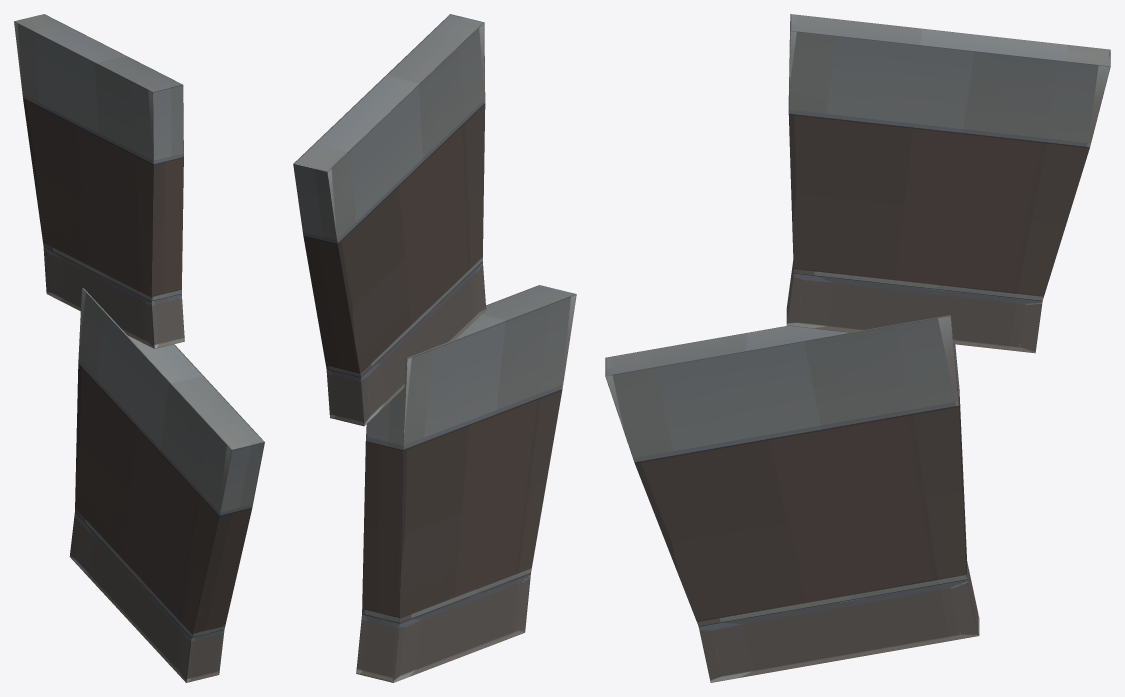
File: Booster 2.fbx
3 renders of one model, left to right at view 1: azimuth 30°, elevation 25°; view 2: azimuth 150°, elevation 25°; view 3: azimuth 270°, elevation 25°, orthographic. The views are drawn at different scales.
Visible parts, largest first — view 1: Plane, Plane.001; view 2: Plane, Plane.001; view 3: Plane, Plane.001.
Part boxes in pixels (bbox=[...]): Plane: bbox=[69, 287, 264, 682]; Plane.001: bbox=[14, 14, 184, 348]; Plane: bbox=[356, 285, 576, 682]; Plane.001: bbox=[293, 14, 486, 426]; Plane: bbox=[605, 315, 979, 682]; Plane.001: bbox=[786, 14, 1110, 353].
Size of the model in its own units: 0.3169 by 5.18 by 3.64.
